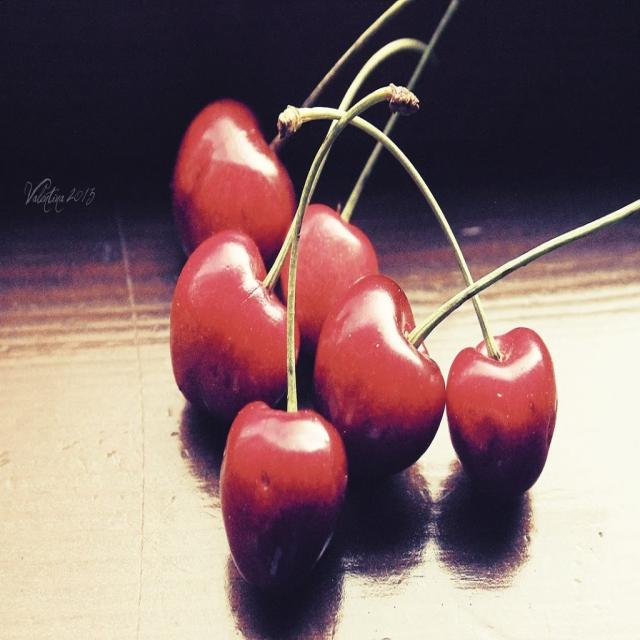Healty Apple: (172, 103, 302, 250)
